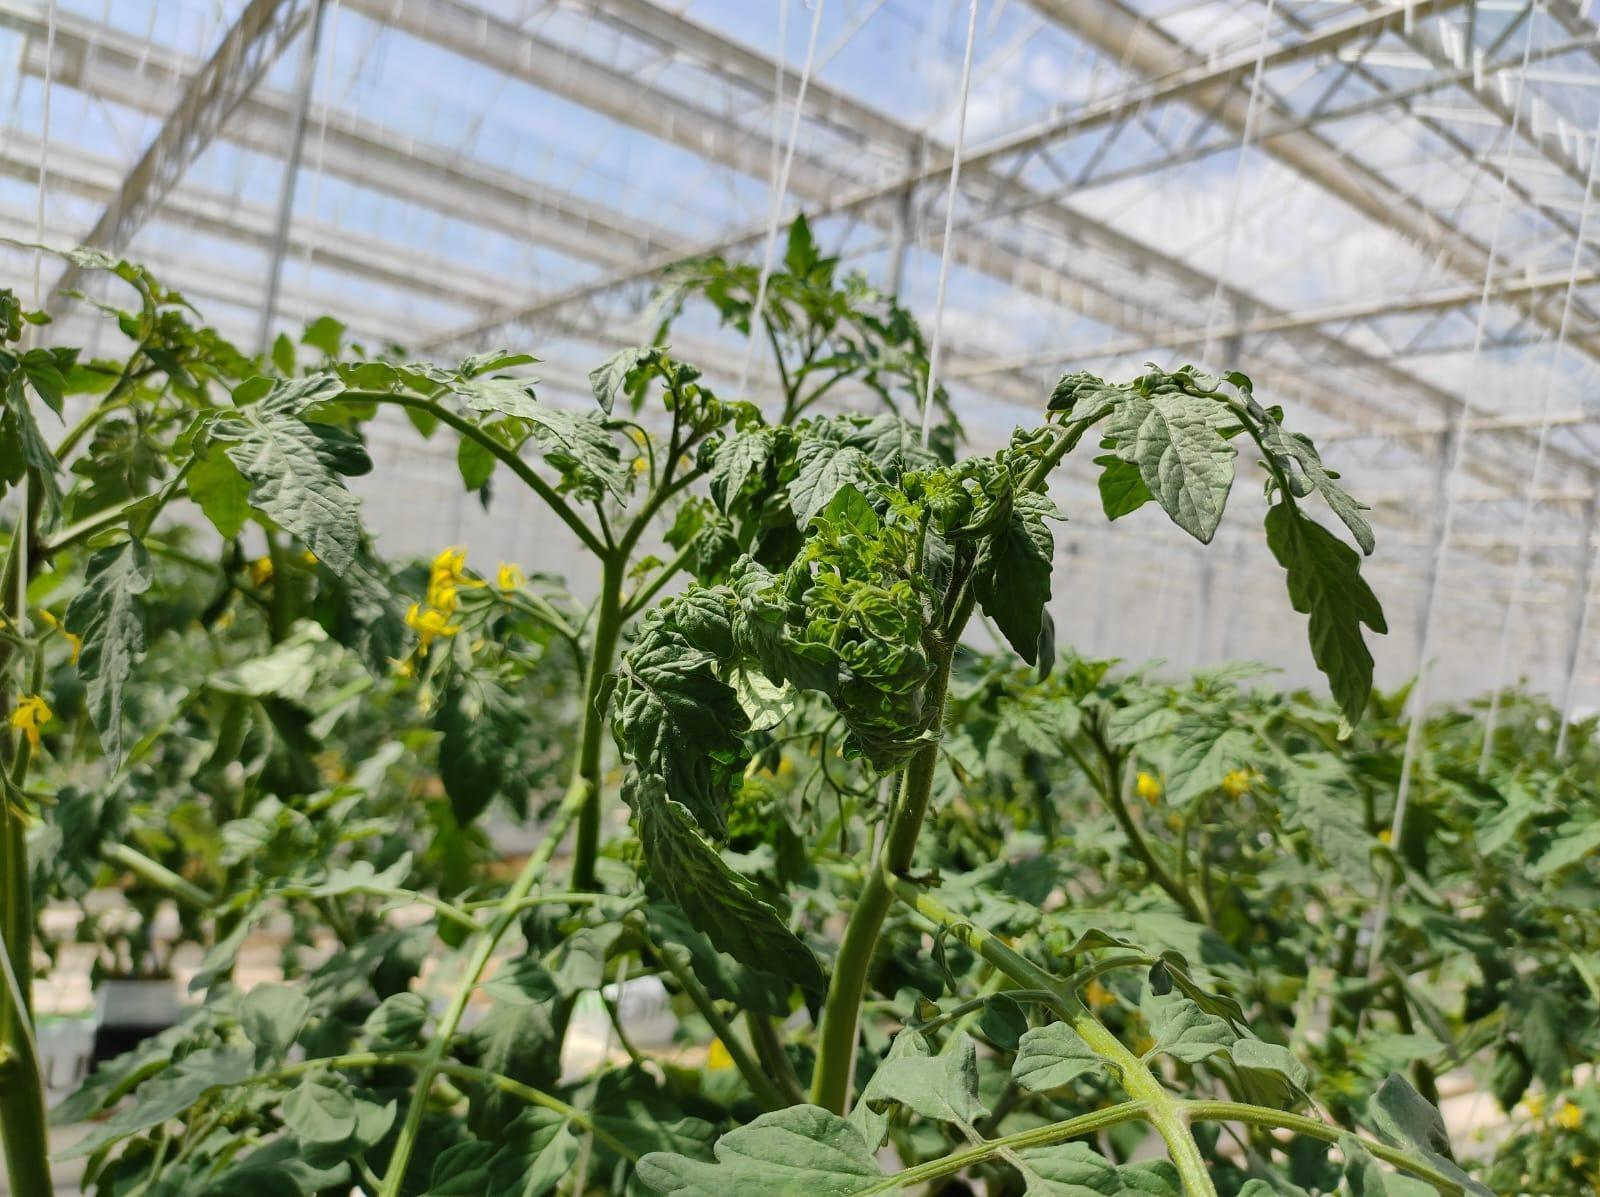Hoja: (207, 373, 368, 576), (1075, 375, 1241, 539), (615, 626, 747, 819)
